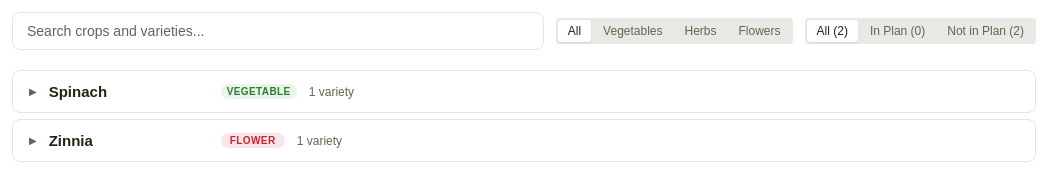
Test: LibraryView › plant type filter › filters by plant type
Click the button "Flowers".
click(760, 31)  # box top-left (728, 20), bottom-right (790, 42)
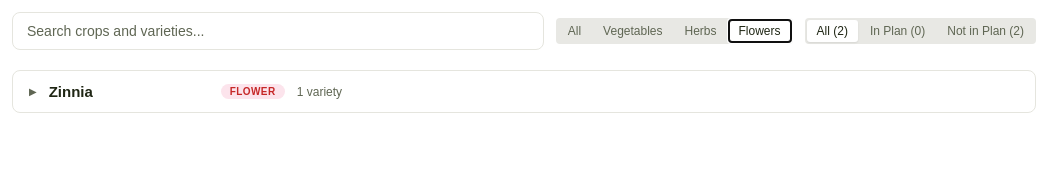
Expected: the text "Zinnia" is shown, top-left (49, 83), bottom-right (93, 100)
Now the button "Spinach" is gone
